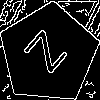Z: (23, 28, 76, 82)
